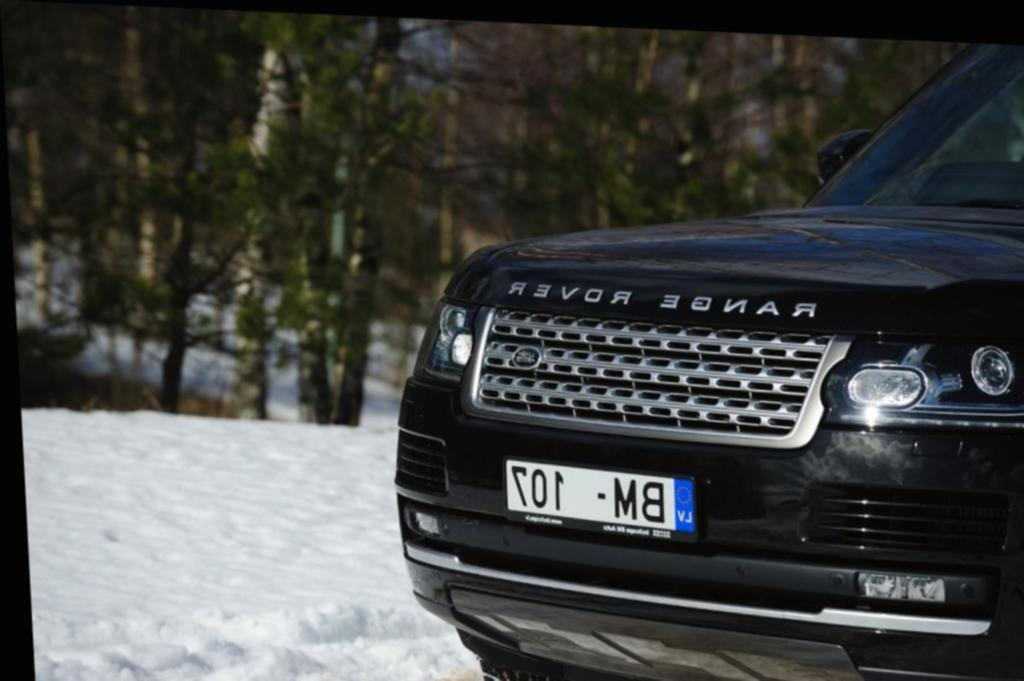License_Plate: (502, 456, 696, 547)
